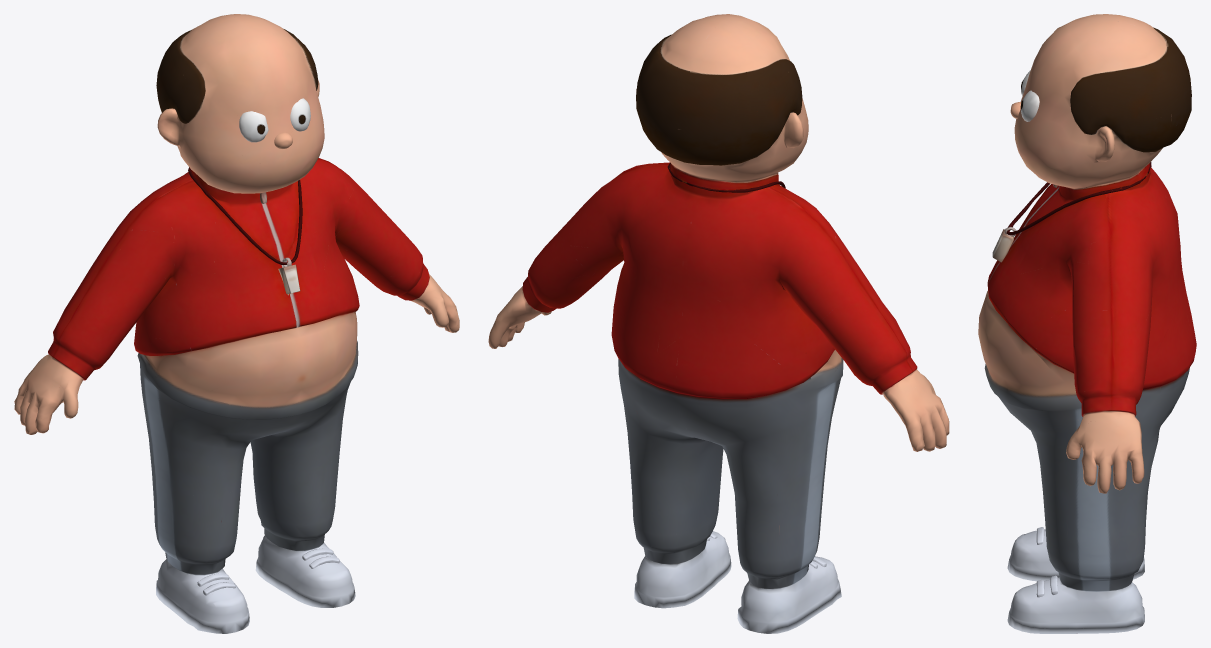
The model's file is teacher_gym.glb.
3 views of the same model, side by side, from view 1: azimuth 30°, elevation 25°; view 2: azimuth 150°, elevation 25°; view 3: azimuth 270°, elevation 25° (orthographic). The views are drawn at different scales.
Parts seen in each view (by area): view 1: geometry_0; view 2: geometry_0; view 3: geometry_0.
Boxes of the visible parts, left/top/right/bottom form: geometry_0: left=14, top=14, right=459, bottom=633; geometry_0: left=488, top=14, right=949, bottom=633; geometry_0: left=978, top=14, right=1196, bottom=633.
Bounding box in the file's own units: 0.7651 × 0.9512 × 0.3281.
1 material, 1 textured.
